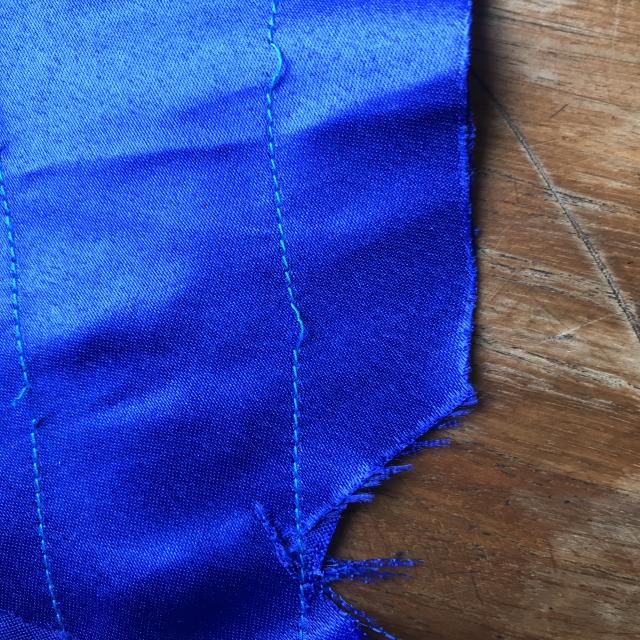broken: (4, 368, 66, 442)
good: (248, 154, 311, 250)
skip: (256, 281, 323, 370), (253, 24, 303, 114)
